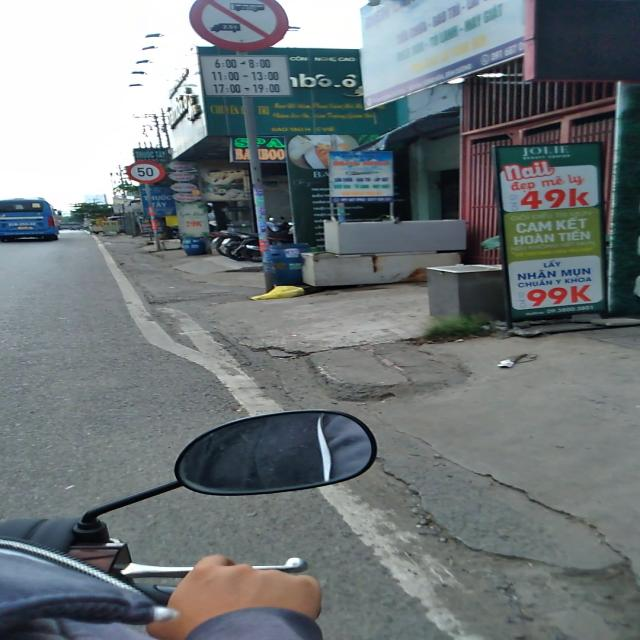Toc do toi da: (126, 160, 165, 184)
